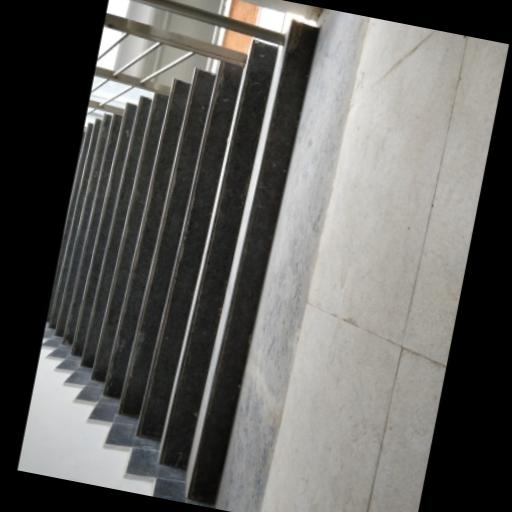stairs: (48, 20, 317, 502)
